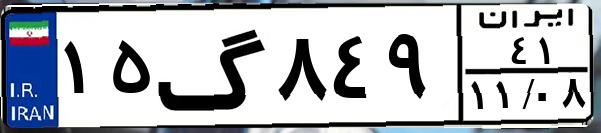0: (535, 70, 560, 125)
1: (57, 26, 110, 100), (537, 27, 568, 80), (470, 70, 495, 125), (495, 70, 520, 125)
4: (330, 28, 385, 110), (508, 27, 537, 80)
5: (110, 28, 156, 98)
8: (270, 28, 330, 110), (560, 70, 590, 125)
9: (385, 28, 445, 110)
گ: (156, 12, 270, 120)
